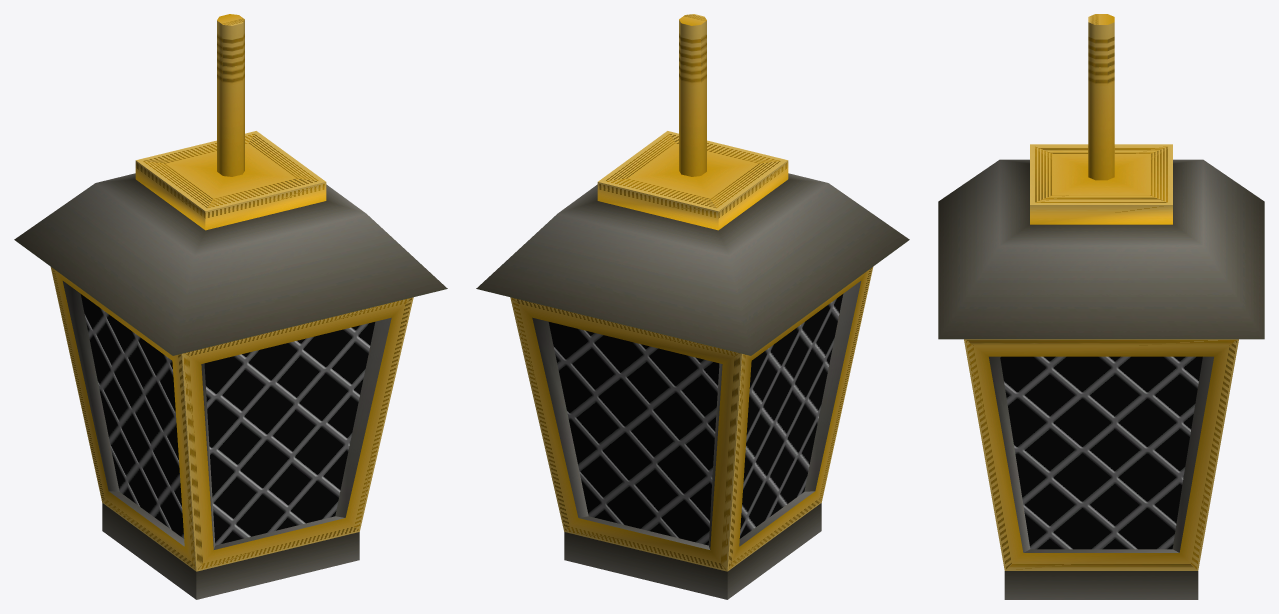
The model's file is BatZapper.fbx.
The picture shows the model from 3 angles, left to right: view 1: azimuth 30°, elevation 25°; view 2: azimuth 150°, elevation 25°; view 3: azimuth 270°, elevation 25°; orthographic projection. The views are drawn at different scales.
Visible parts, largest first — view 1: Torch (1); view 2: Torch (1); view 3: Torch (1).
Part boxes in pixels (bbox=[...]): Torch (1): bbox=[14, 14, 447, 599]; Torch (1): bbox=[476, 14, 909, 599]; Torch (1): bbox=[938, 14, 1264, 599].
Size of the model in its own units: 0.5672 by 1.04 by 0.5672.
